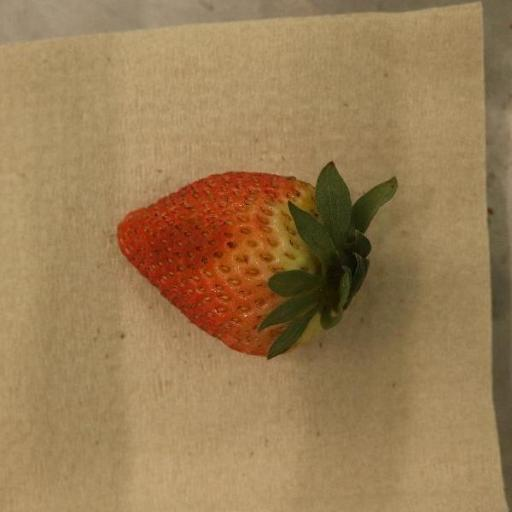Strawberry: (117, 163, 399, 360)
